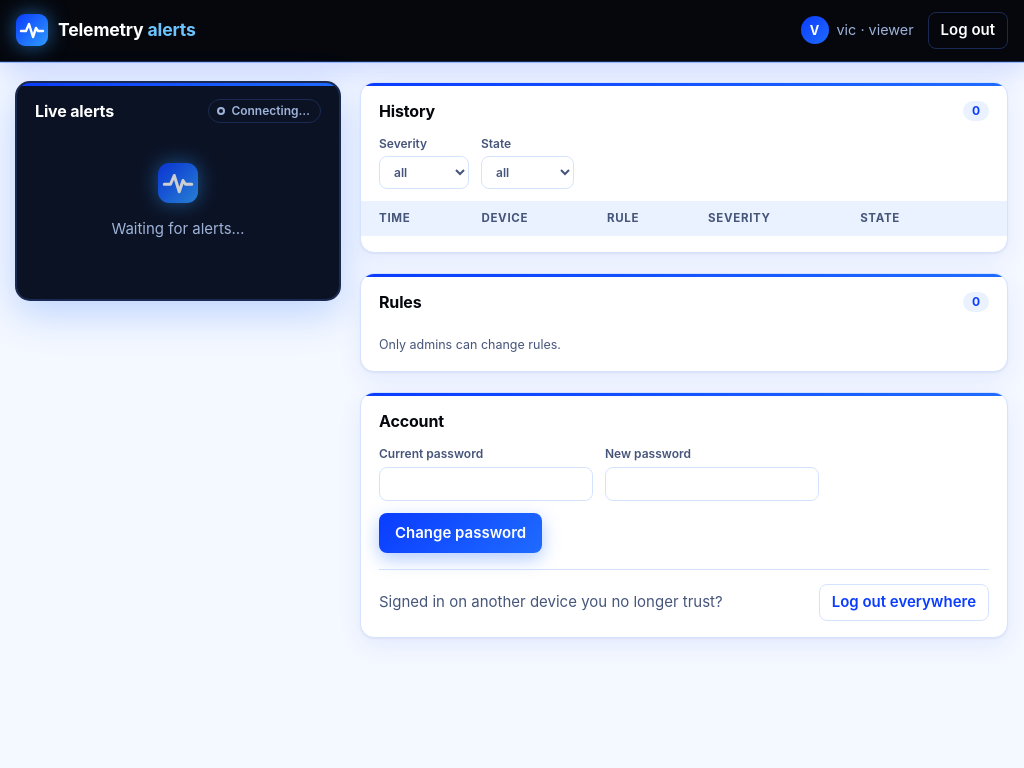
it: account lifecycle › changes the password and reports a wrong current password
expect the text "vic · viewer" is shown: met, box 836,19 -> 914,41
Step 1. Type "wrong" into the password field labelled "Current password" → coordinates (486, 484), box 379,466 -> 593,500
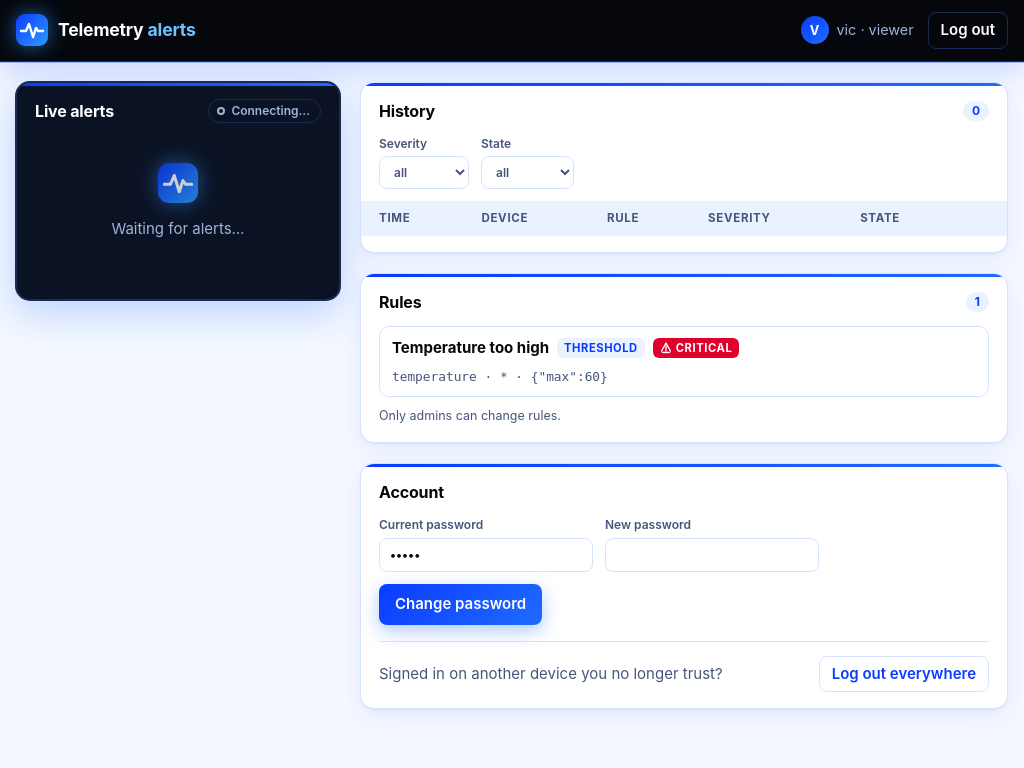
Step 2. Type "a-new-password" into the password field labelled "New password" → coordinates (712, 555), box 605,538 -> 819,572
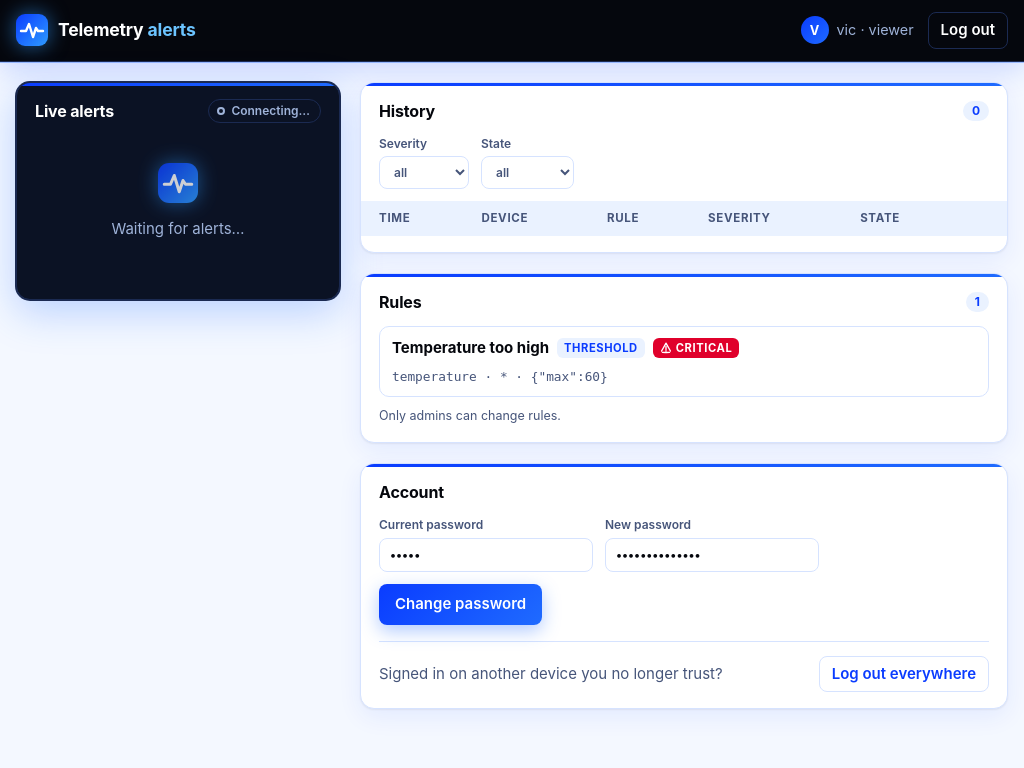
Step 3. Click the button "Change password" → coordinates (461, 604), box 379,584 -> 542,625
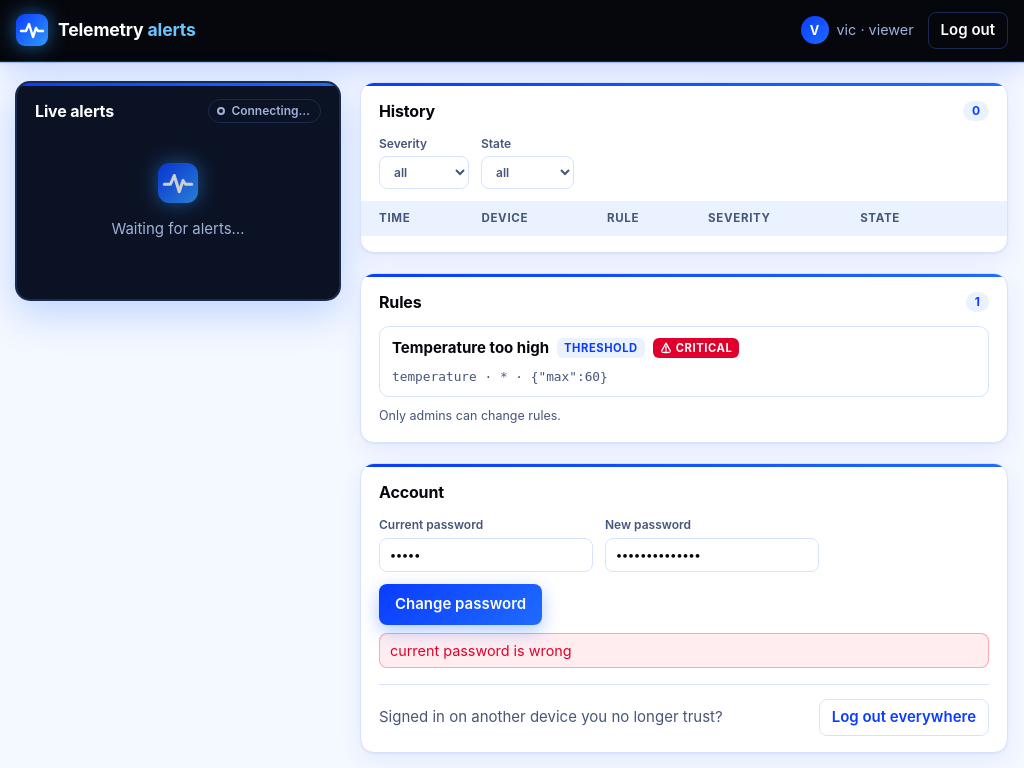
expect the message "current password is wrong" is shown: met, box 379,633 -> 989,668
Step 4. Type "right-password" into the password field labelled "Current password" → coordinates (486, 555), box 379,538 -> 593,572
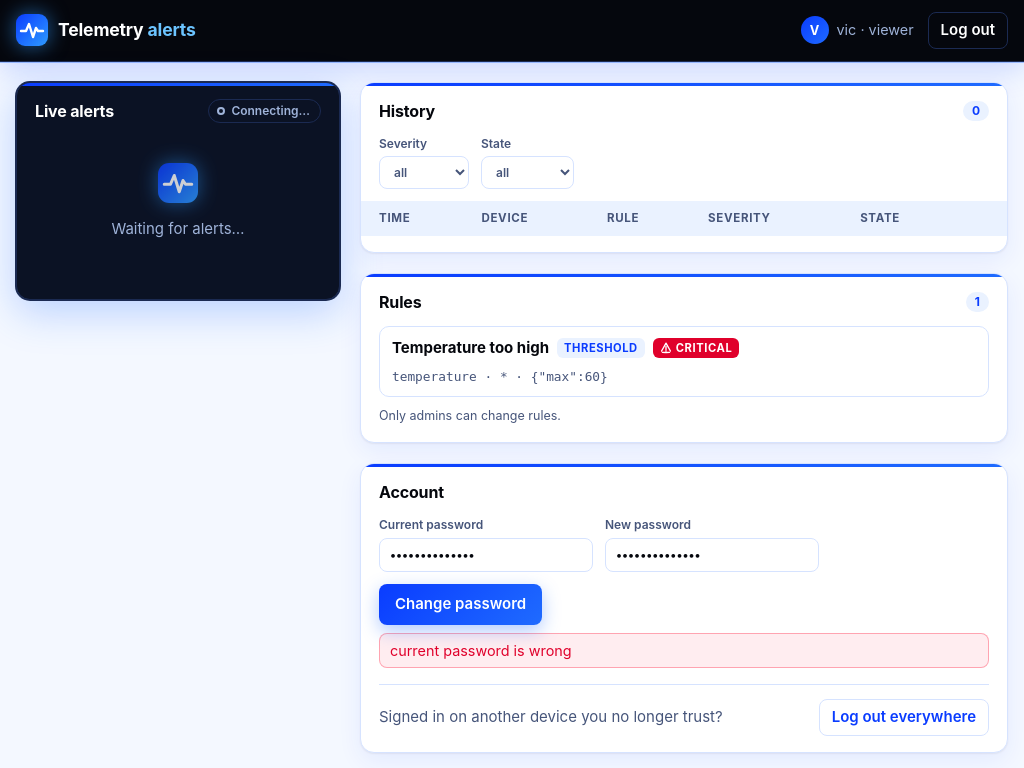
Step 5. Click the button "Change password" → coordinates (461, 604), box 379,584 -> 542,625
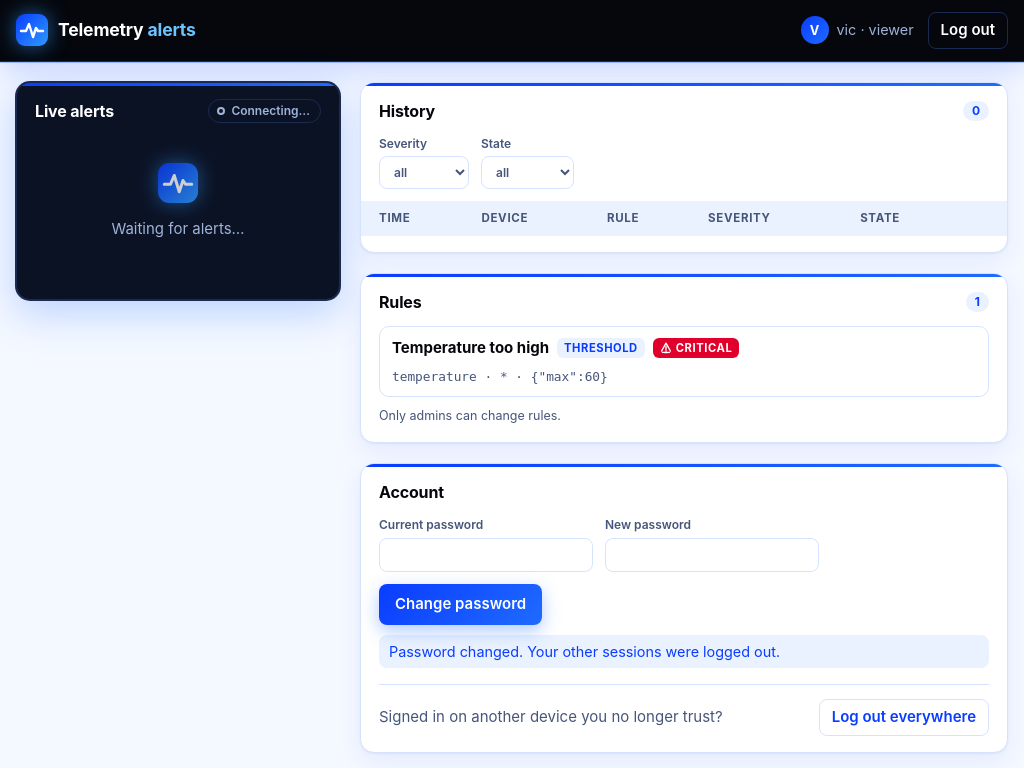
expect the text "Password changed. Your other sessions were logged out." is shown: met, box 379,635 -> 989,668
